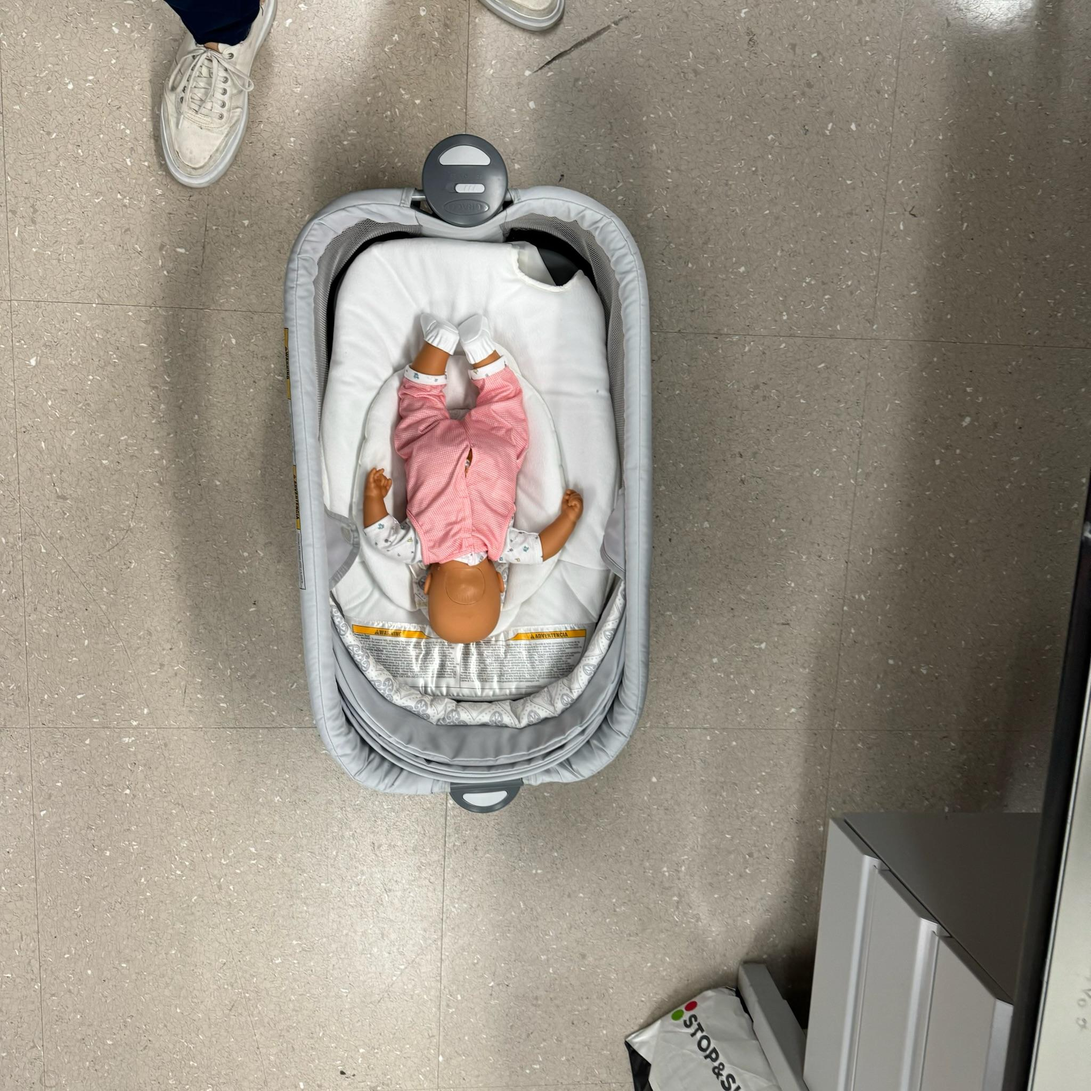baby: (354, 298, 588, 666)
